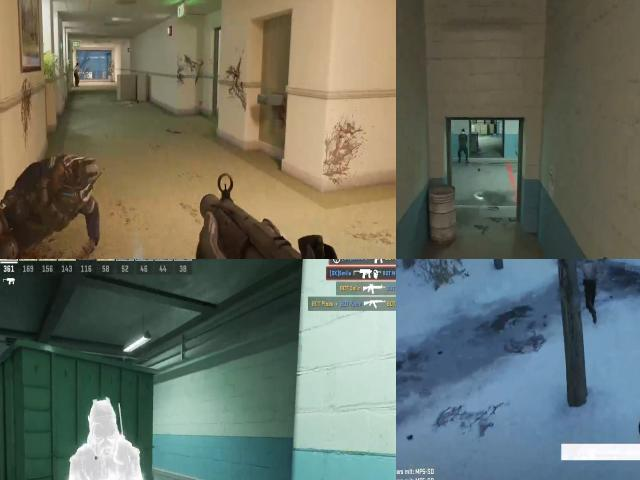CT: (458, 129, 471, 158)
CT-Head: (459, 127, 468, 137)
Dead: (0, 142, 109, 259)
T: (583, 259, 599, 286), (72, 61, 80, 87)
T-Head: (75, 63, 79, 69)
